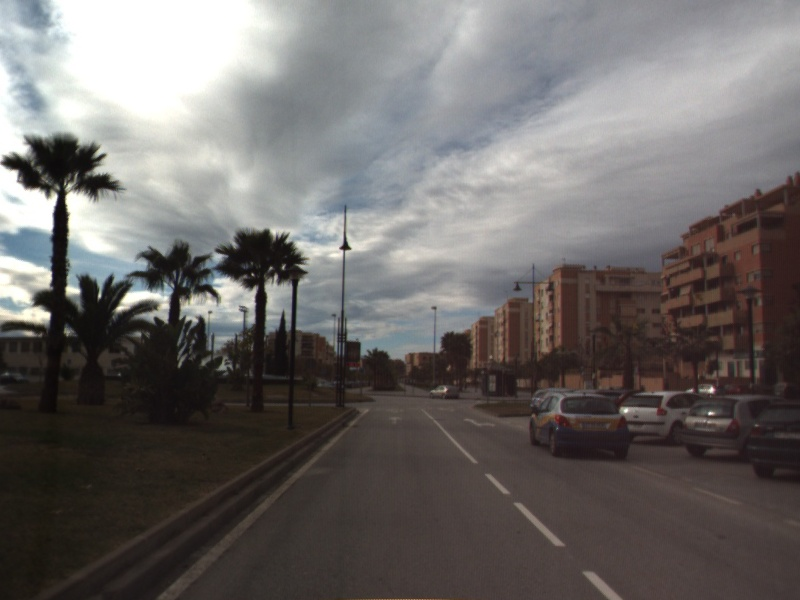STRAIGHT: (386, 414, 404, 426)
STRAIGHT_RIGHT: (462, 416, 498, 430)
